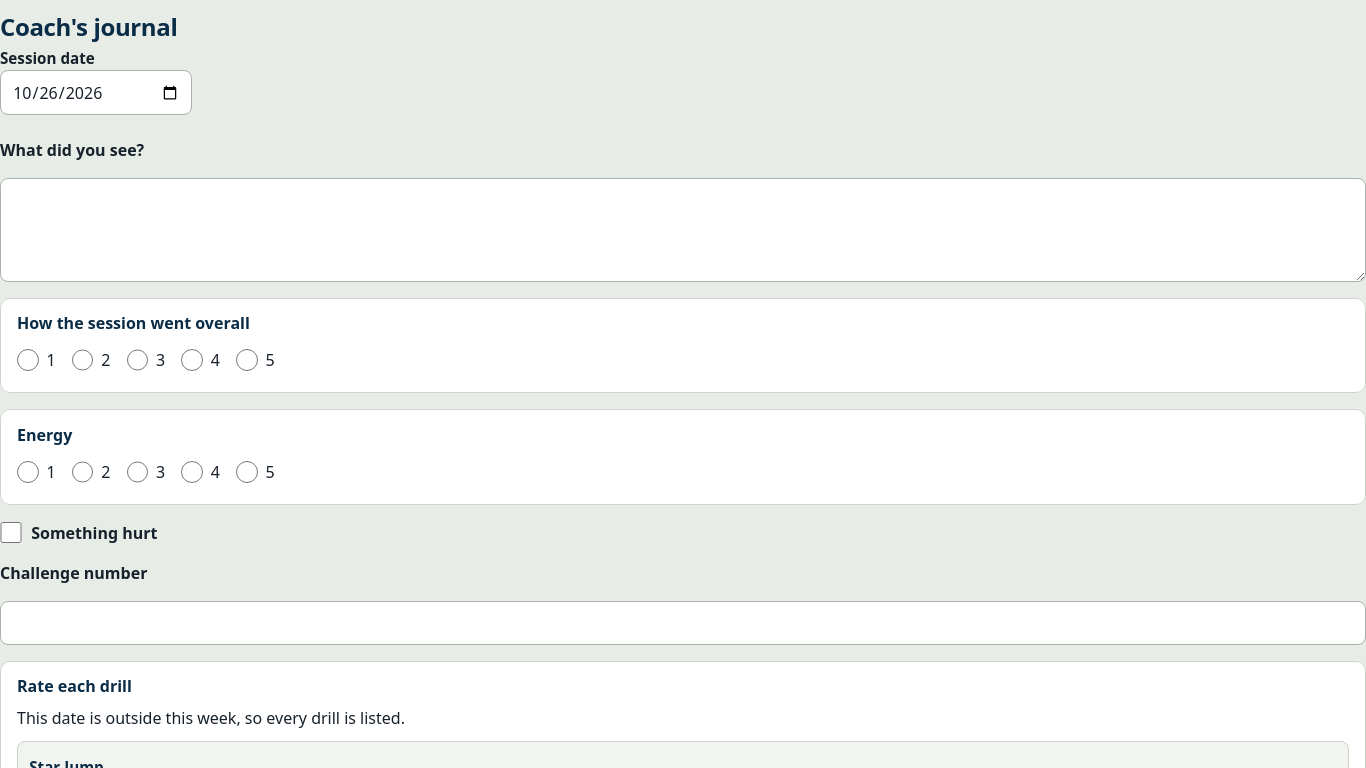
Test case: the coach's journal › deleting an entry › offers a delete on a day that has one
Type "2026-09-16" into the date field labelled "Session date" at (96, 93), box [0, 70, 192, 115]
(page scrolled)
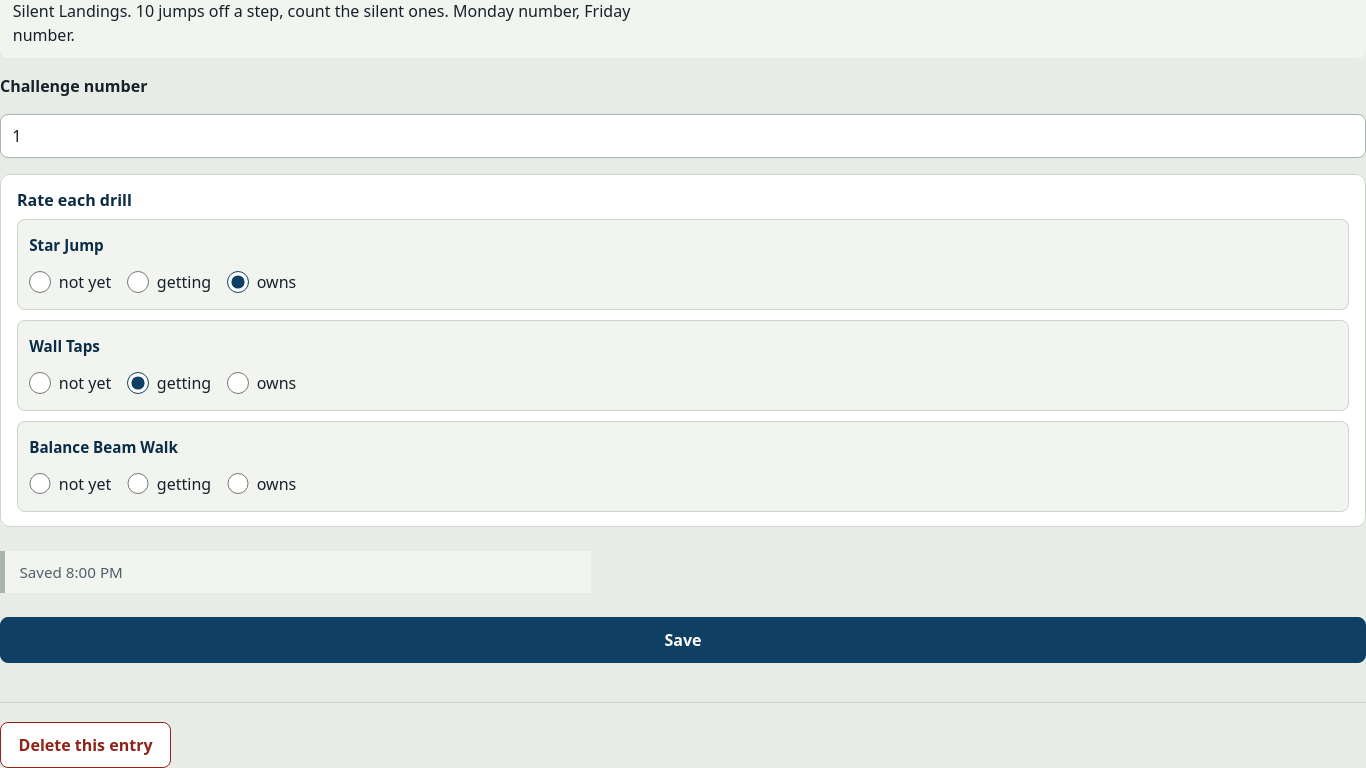
expect the button "Delete this entry" is shown: met, box [0, 722, 171, 767]
